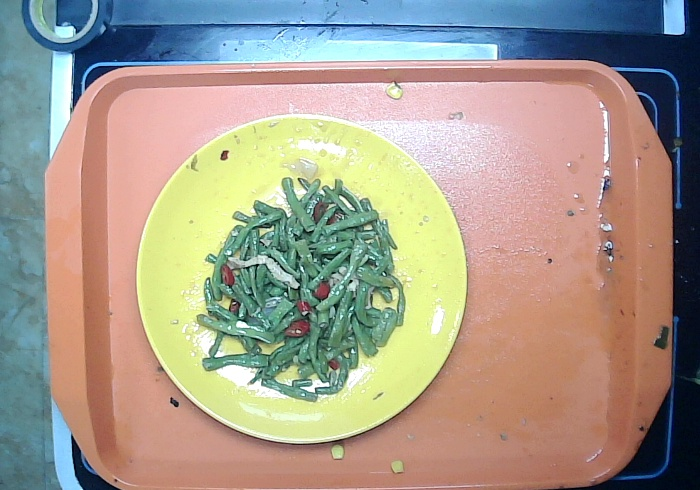HZYJPL-Huang_Se_Yuan_Pan: (129, 114, 470, 444)
